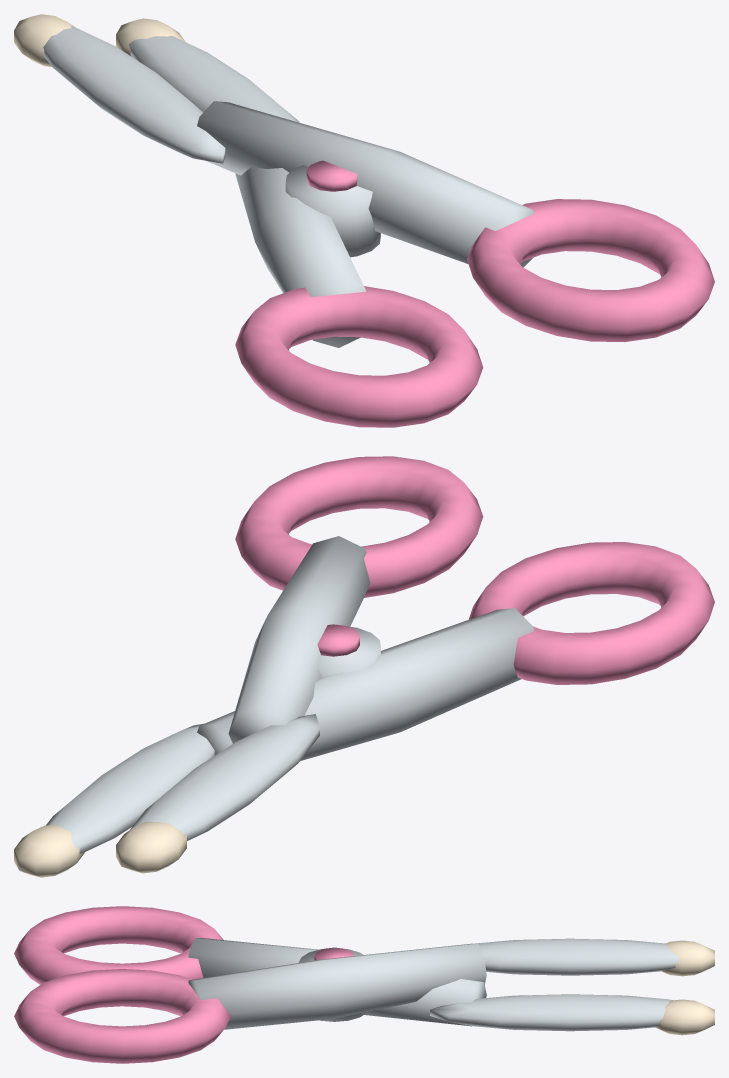
File: scissors.glb
3 renders of one model, top to bottom at view 1: azimuth 30°, elevation 25°; view 2: azimuth 150°, elevation 25°; view 3: azimuth 270°, elevation 25°, orthographic. The views are drawn at different scales.
Parts seen in each view (by area): view 1: Blade_R, Blade_L, Body; view 2: Blade_L, Blade_R, Body; view 3: Blade_R, Blade_L, Body.
Boxes of the visible parts, left/top/right/bottom form: Blade_R: left=14, top=14, right=714, bottom=342; Blade_L: left=116, top=18, right=483, bottom=427; Body: left=285, top=160, right=380, bottom=257; Blade_L: left=14, top=542, right=714, bottom=877; Blade_R: left=116, top=456, right=483, bottom=873; Body: left=316, top=624, right=380, bottom=677; Blade_R: left=14, top=938, right=714, bottom=1063; Blade_L: left=14, top=906, right=714, bottom=1035; Body: left=298, top=947, right=367, bottom=1021.
Bounding box in the file's own units: 0.0959 × 0.0226 × 0.18.
3 materials, 3 textured.
